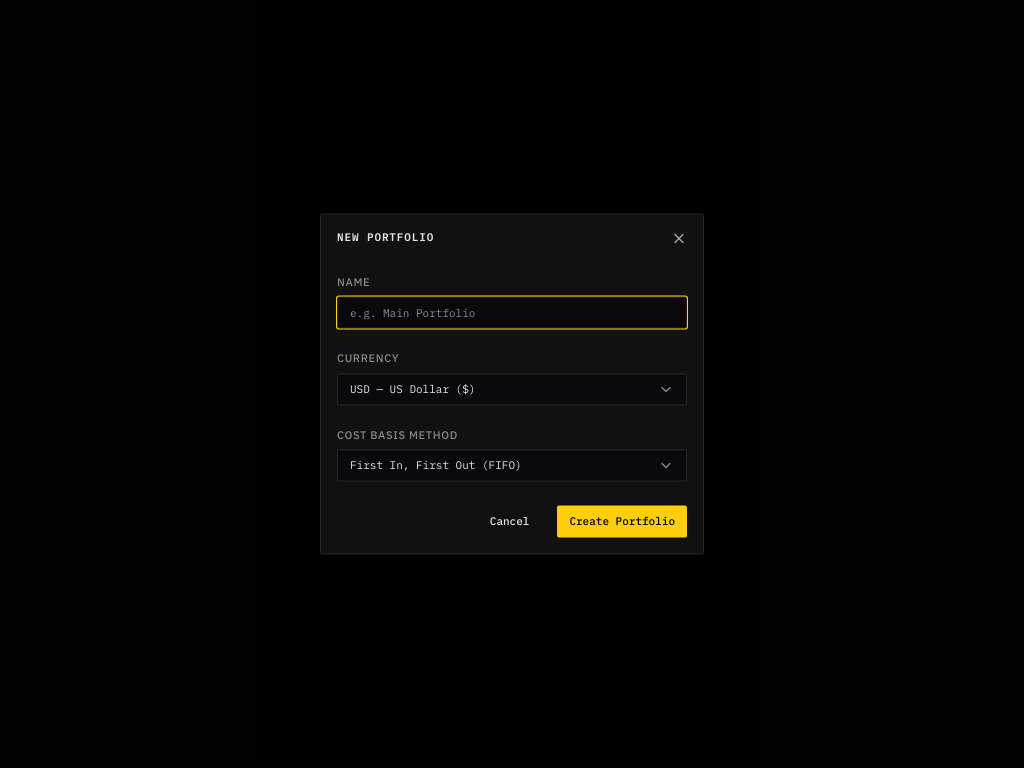
Scenario: CreatePortfolioDialog — success path › shows server error when gateway throws
The width and height of the screenshot is (1024, 768).
In the field with placeholder "e.g. Main Portfolio": (512, 313) x1=337 y1=297 x2=687 y2=329, type "My Fund"
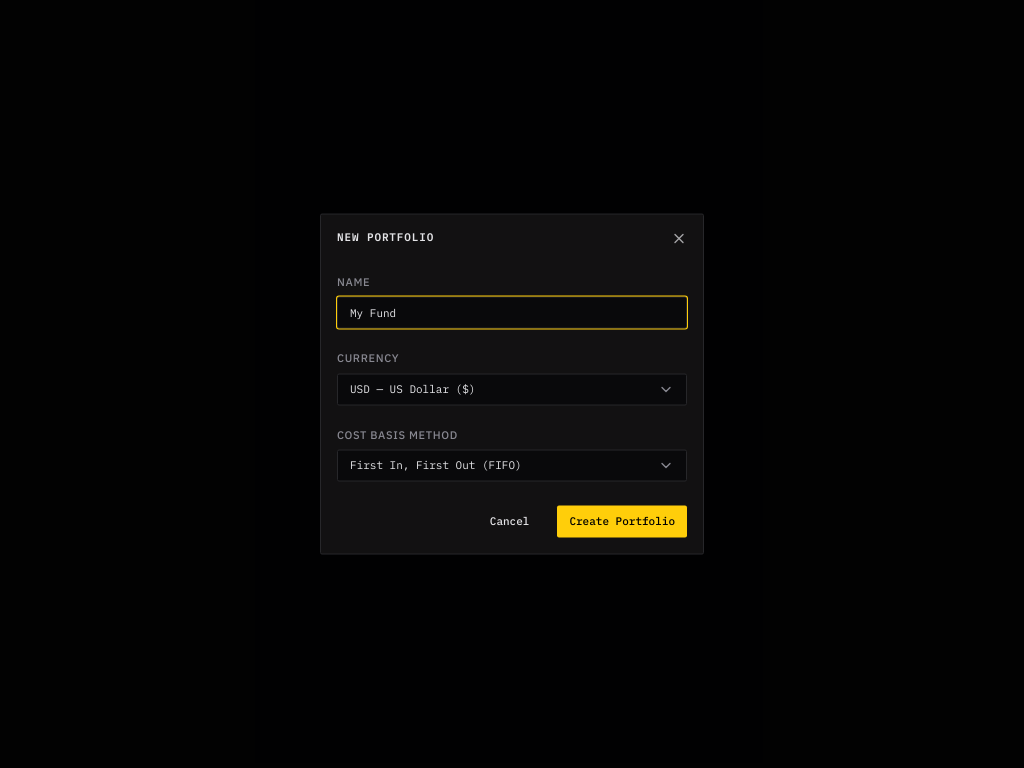
Click the button "Create Portfolio": (622, 522) x1=557 y1=506 x2=687 y2=538
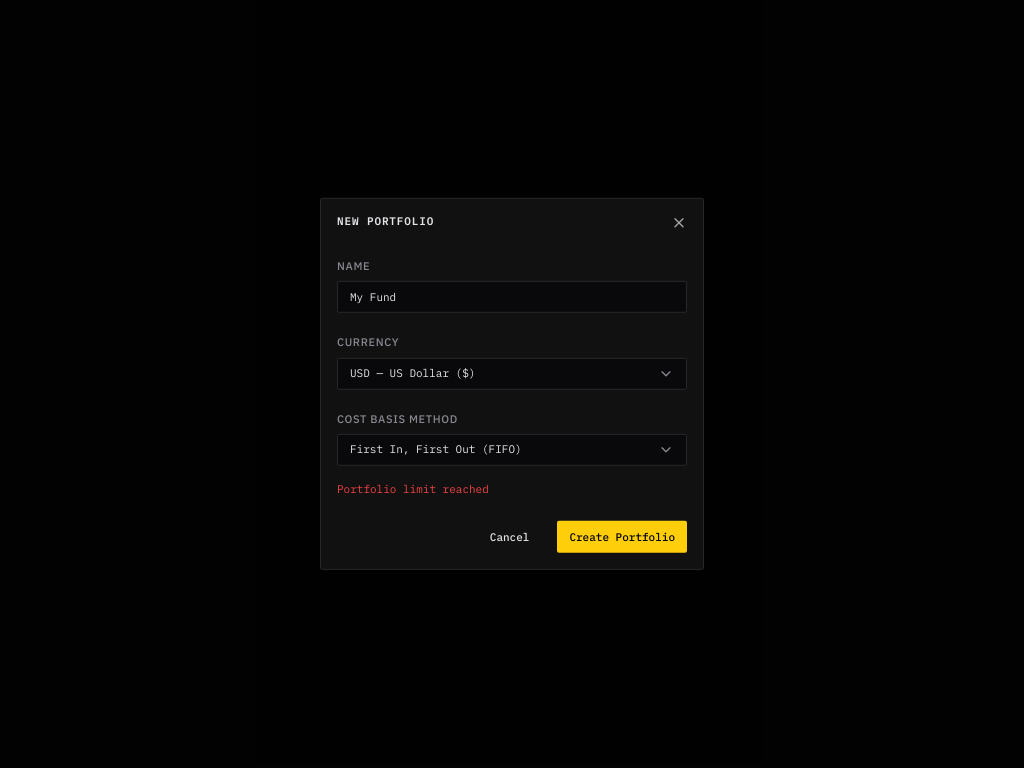
Now the text "Portfolio limit reached" is shown, box x1=337 y1=482 x2=489 y2=496
